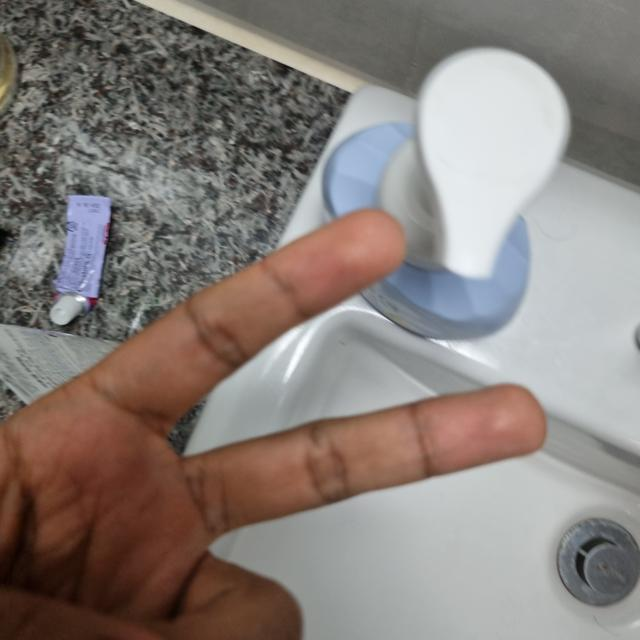Scissors: (0, 210, 535, 639)
